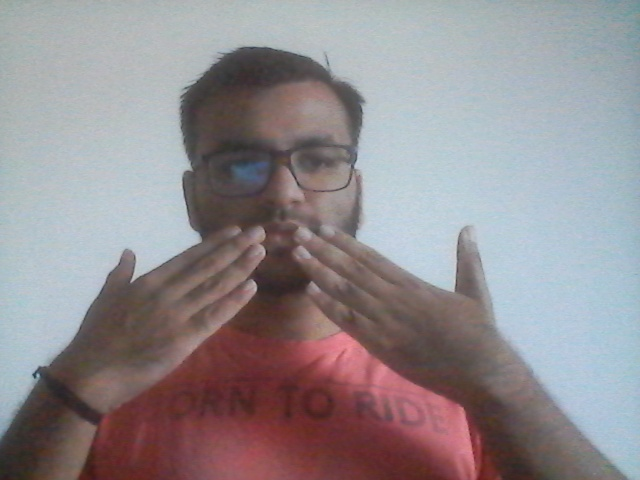Yes: (45, 208, 542, 427)
